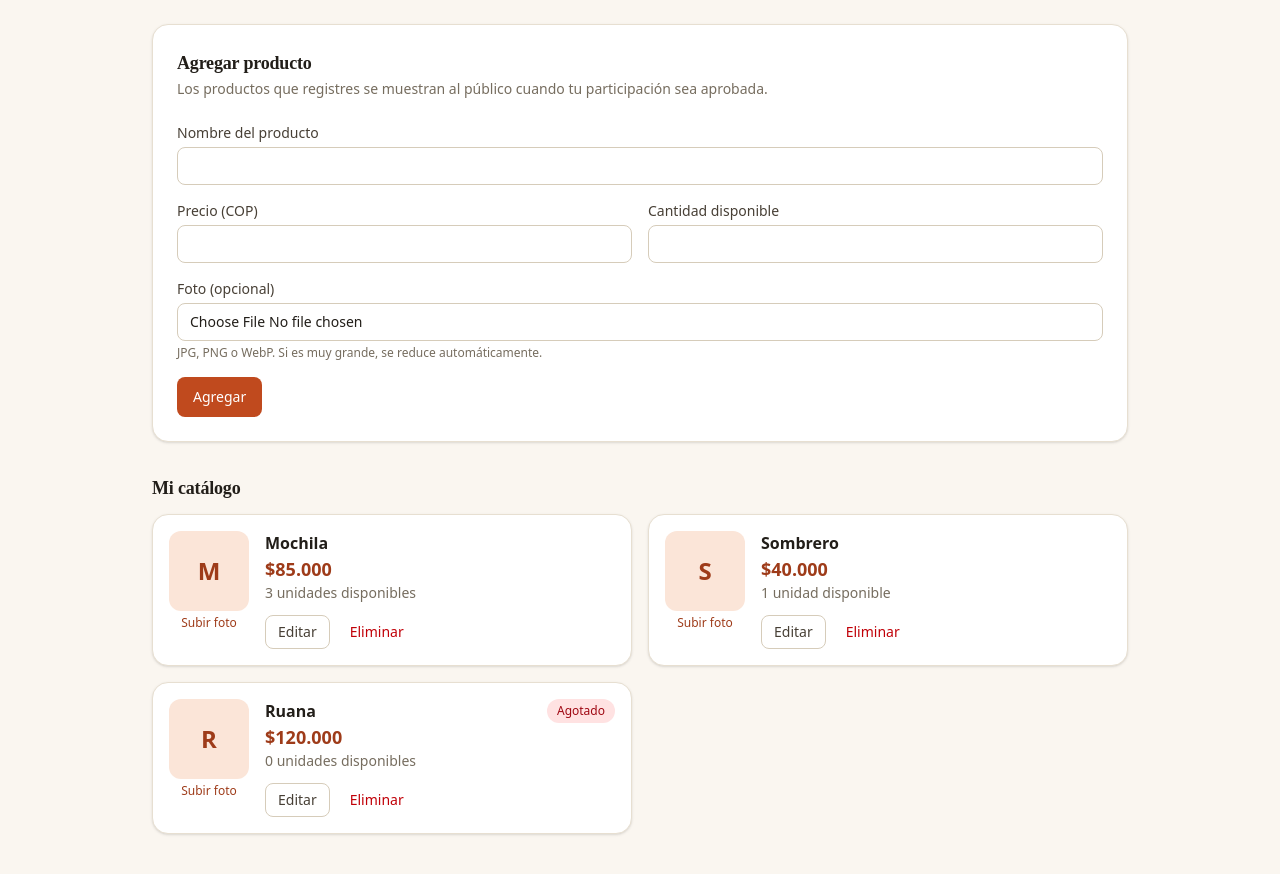
it: PanelArtesano: editar producto › carga los datos en el formulario y oculta el campo de foto
(page scrolled)
Expected: the heading "Mochila" is shown, [265,531,328,555]
Click the button "Editar" below "85.000" at (297, 632), box [265,615,330,649]
(page scrolled)
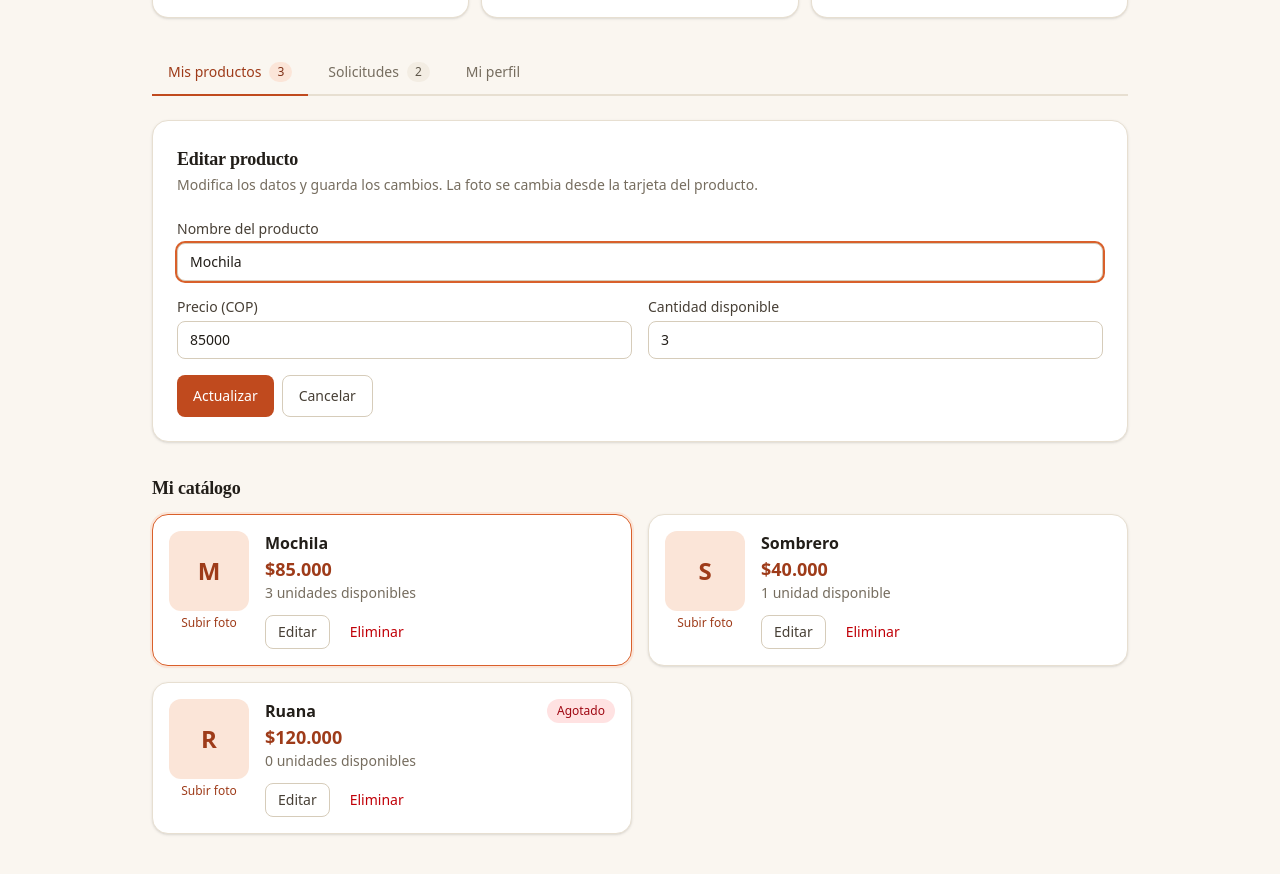
Now the heading "Editar producto" is shown, box [177,149,298,169]
Now the field labelled "Nombre del producto" holds "Mochila", box [177,243,1103,281]
Now the number field labelled "Precio (COP)" holds "85000", box [177,321,632,359]
